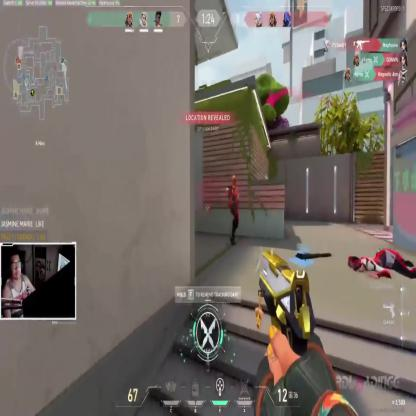enemy: (224, 176, 241, 245)
enemy_head: (232, 173, 237, 188)
